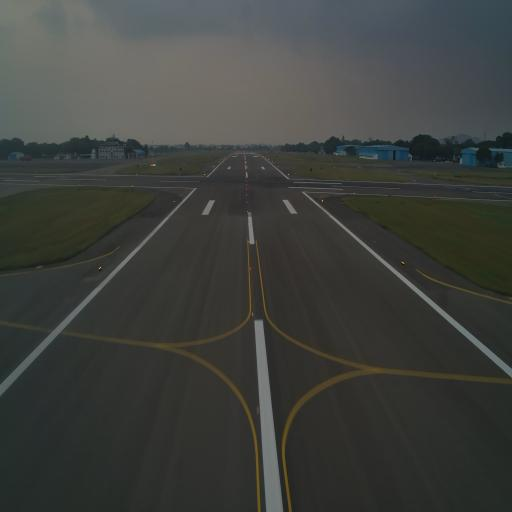on: (256, 403, 260, 416), (248, 262, 252, 274), (98, 263, 103, 272), (400, 259, 405, 267), (250, 310, 254, 319), (248, 239, 250, 245)
